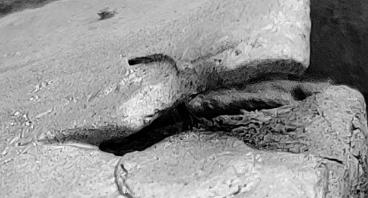crack: (0, 1, 368, 198)
